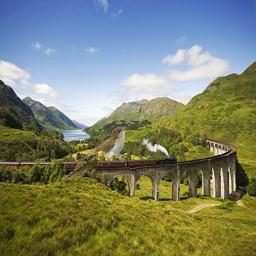Cuckoo: (62, 125, 131, 180)
